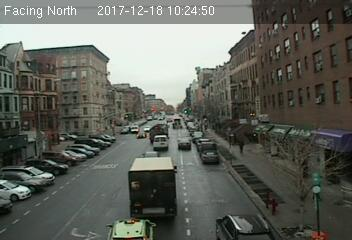car: (214, 211, 277, 240), (201, 149, 218, 163), (177, 137, 190, 148)
truck: (152, 136, 168, 148)
ups: (128, 157, 179, 221)
